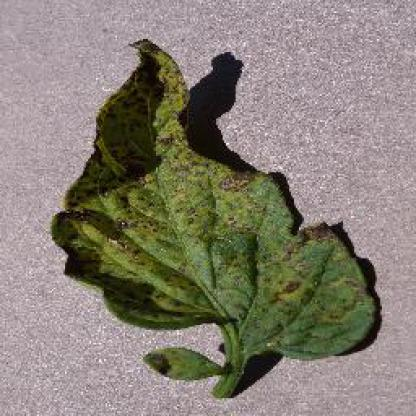bad leaf: (72, 45, 310, 314)
